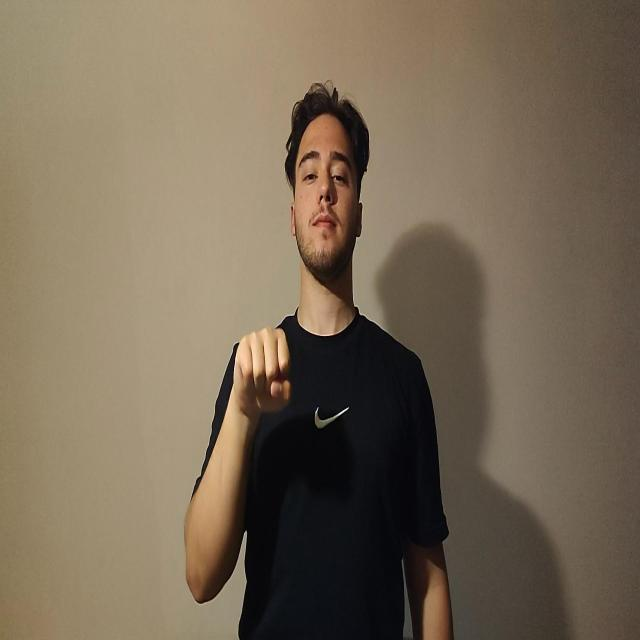yes: (232, 325, 292, 421)
